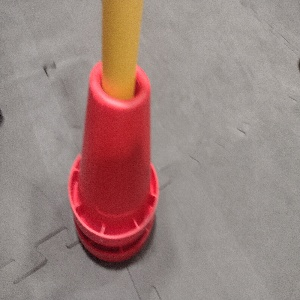Red_2: (67, 58, 158, 265)
